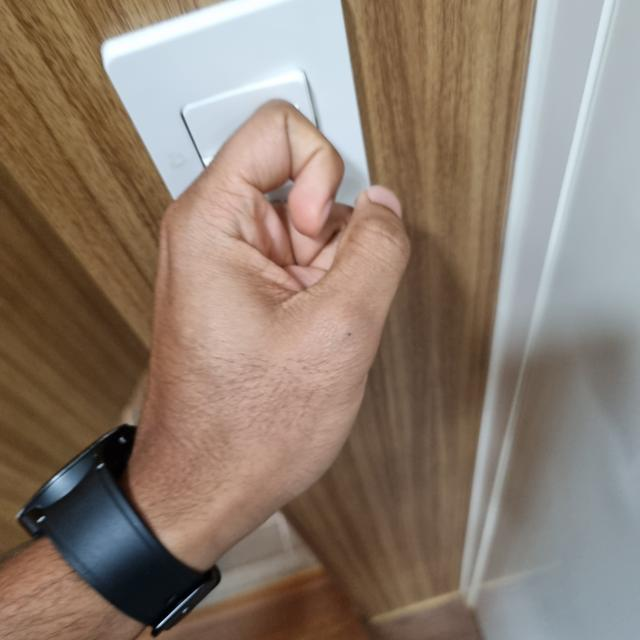Rock: (135, 104, 414, 541)
